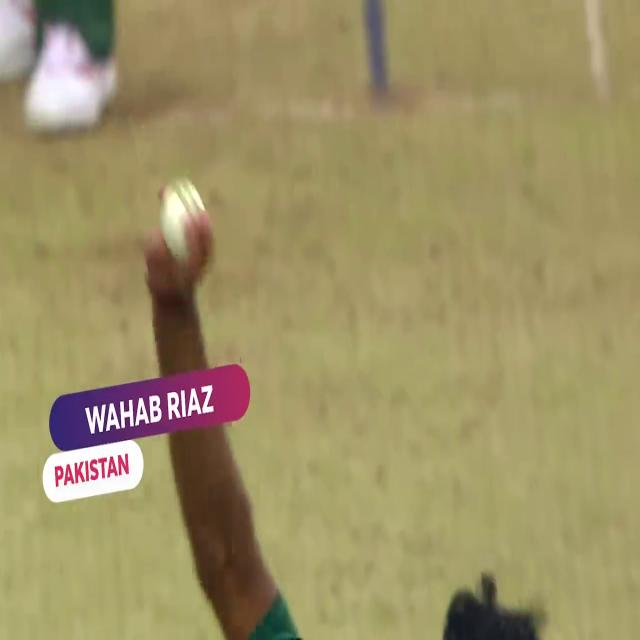ball: (142, 164, 224, 294)
